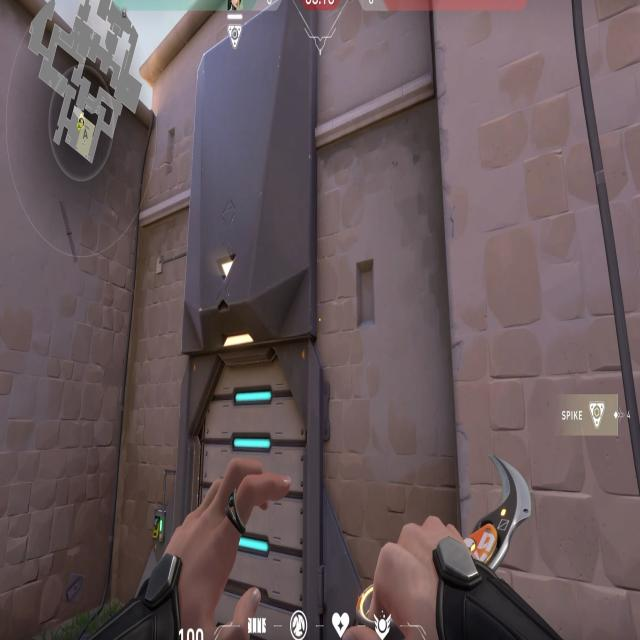A_Door: (173, 326, 330, 640)
